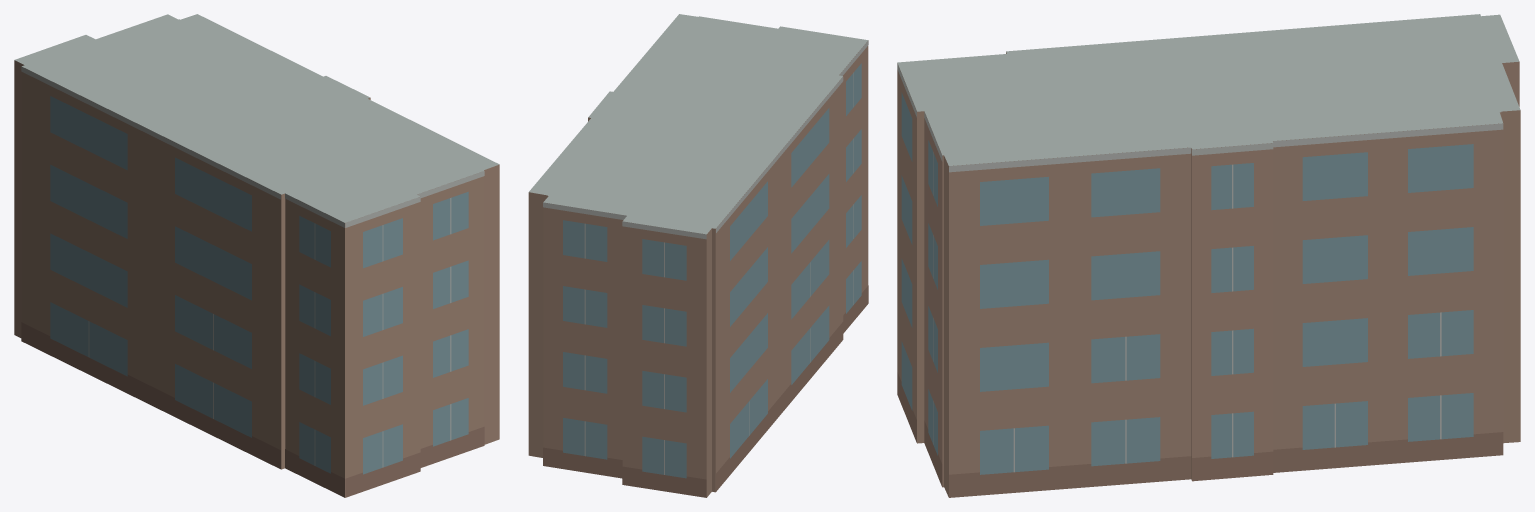
File: survey-upis-32662069.glb
The picture shows the model from 3 angles, left to right: view 1: azimuth 30°, elevation 25°; view 2: azimuth 150°, elevation 25°; view 3: azimuth 270°, elevation 25°; orthographic projection. The views are drawn at different scales.
Visible parts, largest first — view 1: survey-upis-32662069.tmp; view 2: survey-upis-32662069.tmp; view 3: survey-upis-32662069.tmp.
Part boxes in pixels (x1=…): survey-upis-32662069.tmp: x1=14, y1=14, x2=499, y2=497; survey-upis-32662069.tmp: x1=528, y1=14, x2=868, y2=497; survey-upis-32662069.tmp: x1=897, y1=14, x2=1520, y2=497.
Bounding box in the file's own units: 12.69 × 12.9 × 21.98.
